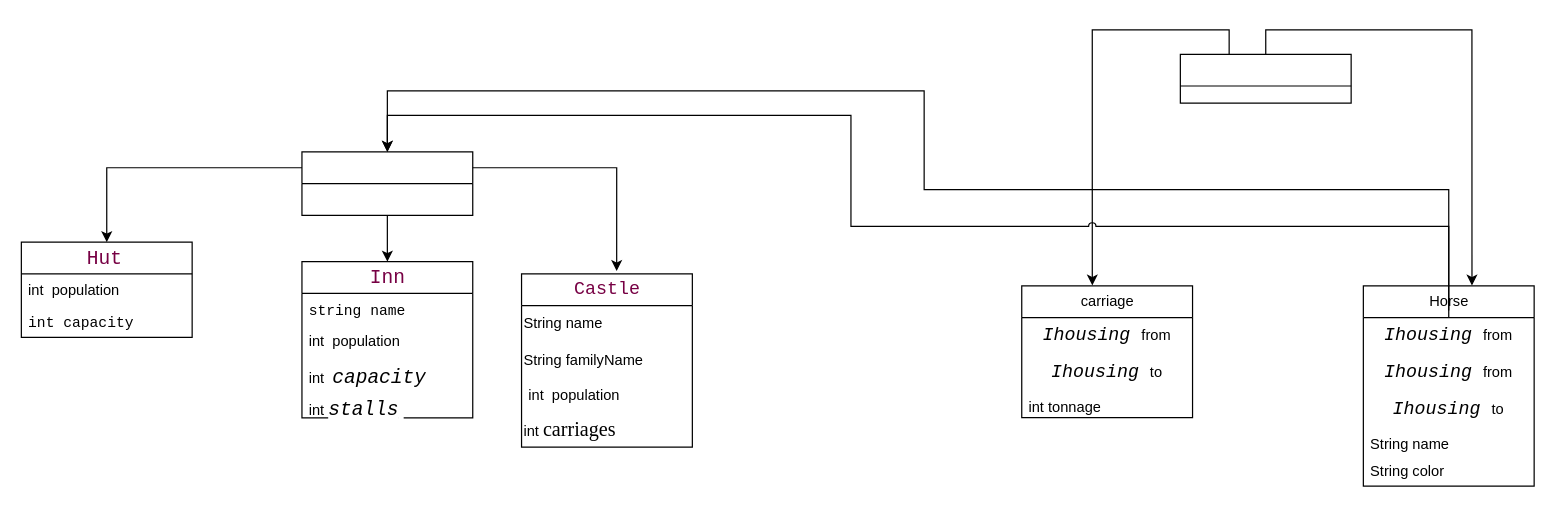
This 1556x511 diagram has some shape labels left out. The centre of each missing label's shape, as x and y in pixels:
Ihousing: the point at 387,183
ITransportation: the point at 1265,78
